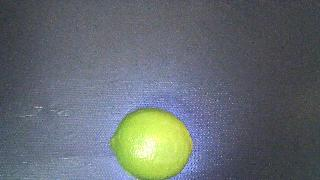EXPORTACION: (110, 108, 193, 180)
